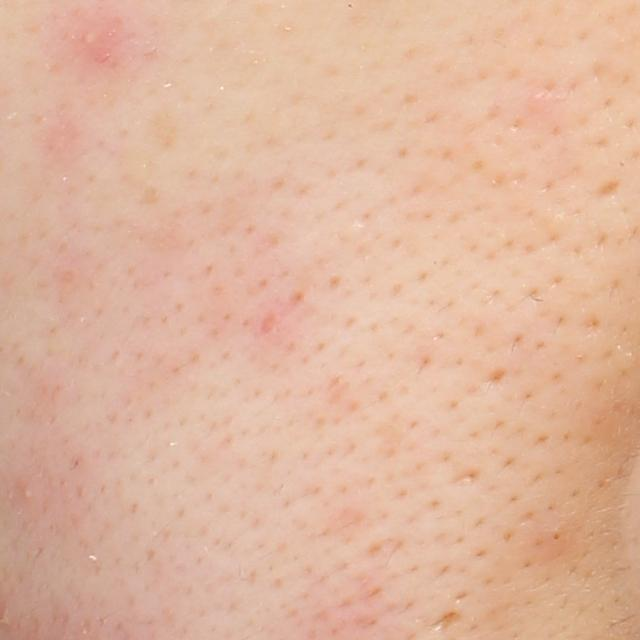atrophic_scar: (584, 176, 627, 203), (432, 606, 461, 631)
